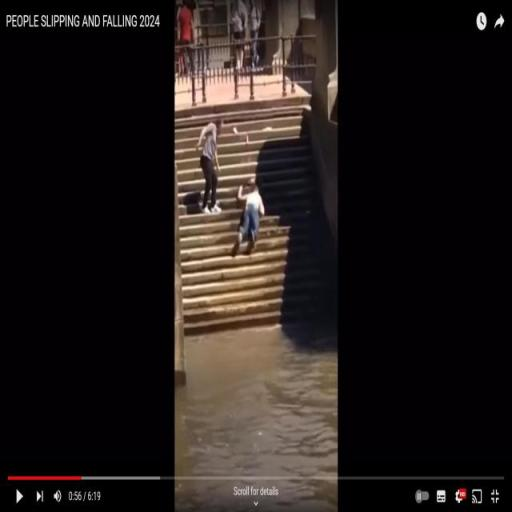Fall: (230, 181, 266, 260)
